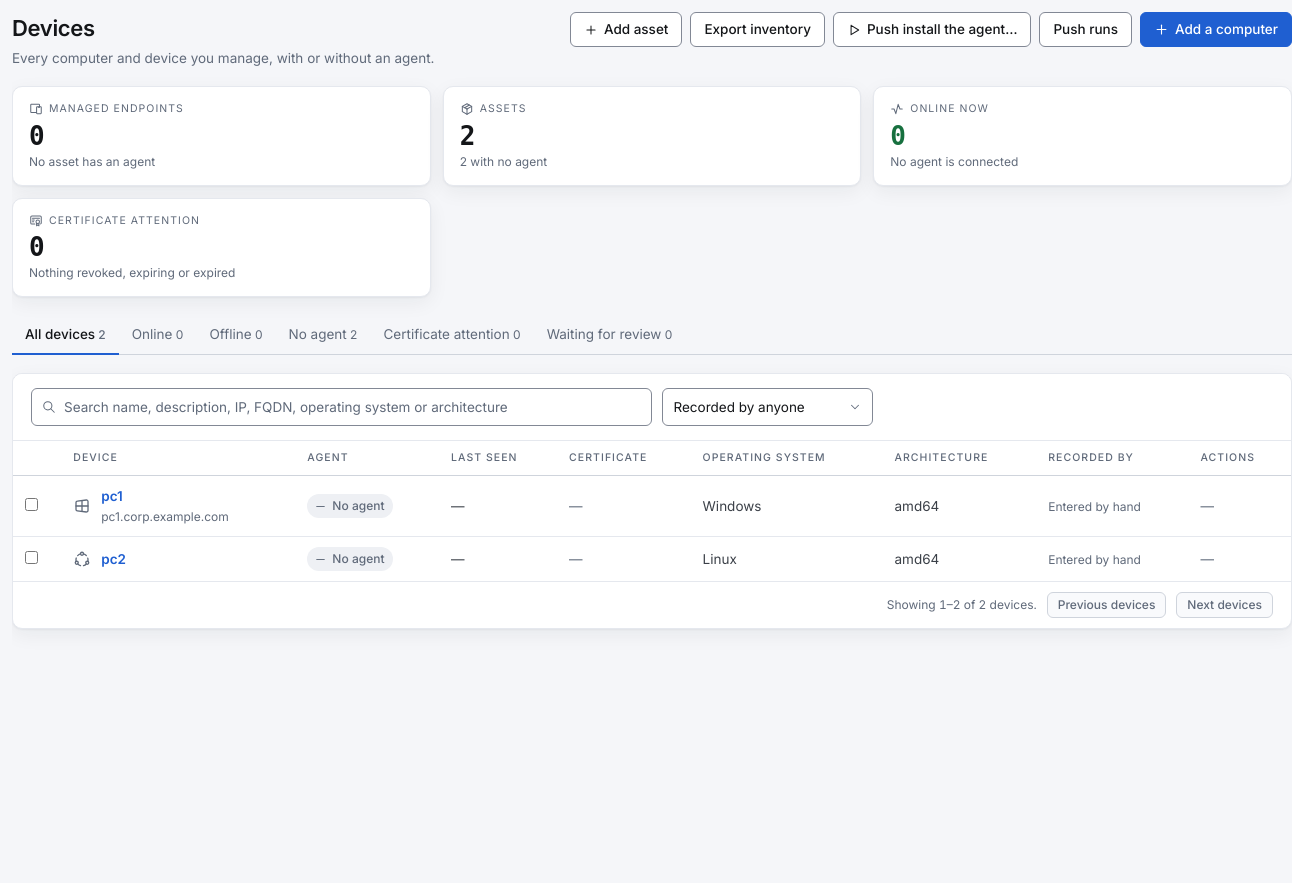
the push install flow › keeps Windows and Linux/macOS machines in separate pushes
Expected: the link "pc1" is shown, [101,488,123,504]
Click the checkbox named "Select pc1 for push install": click(32, 505) [25,498,38,511]
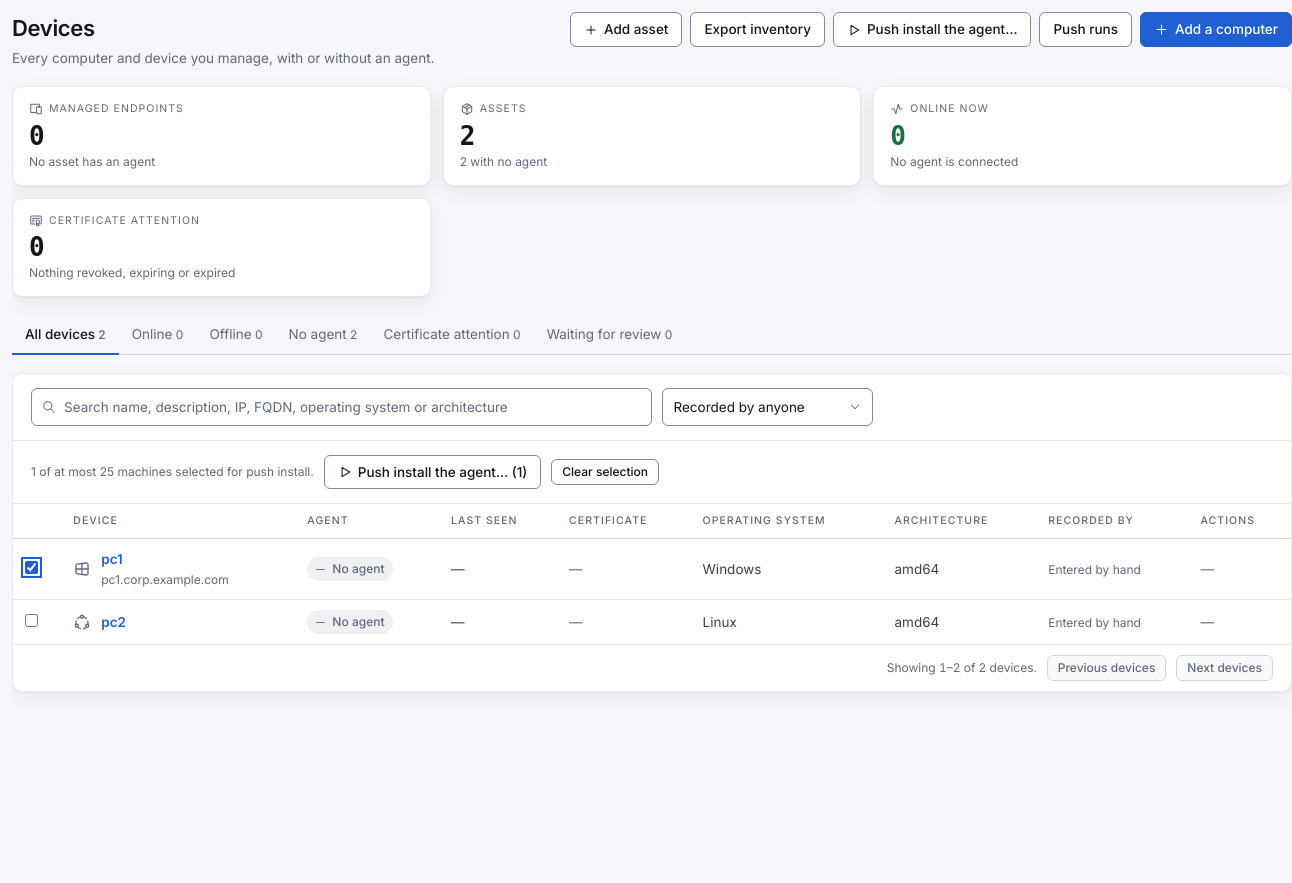
Click the checkbox named "Select pc2 for push install": click(32, 621) [25,614,38,627]
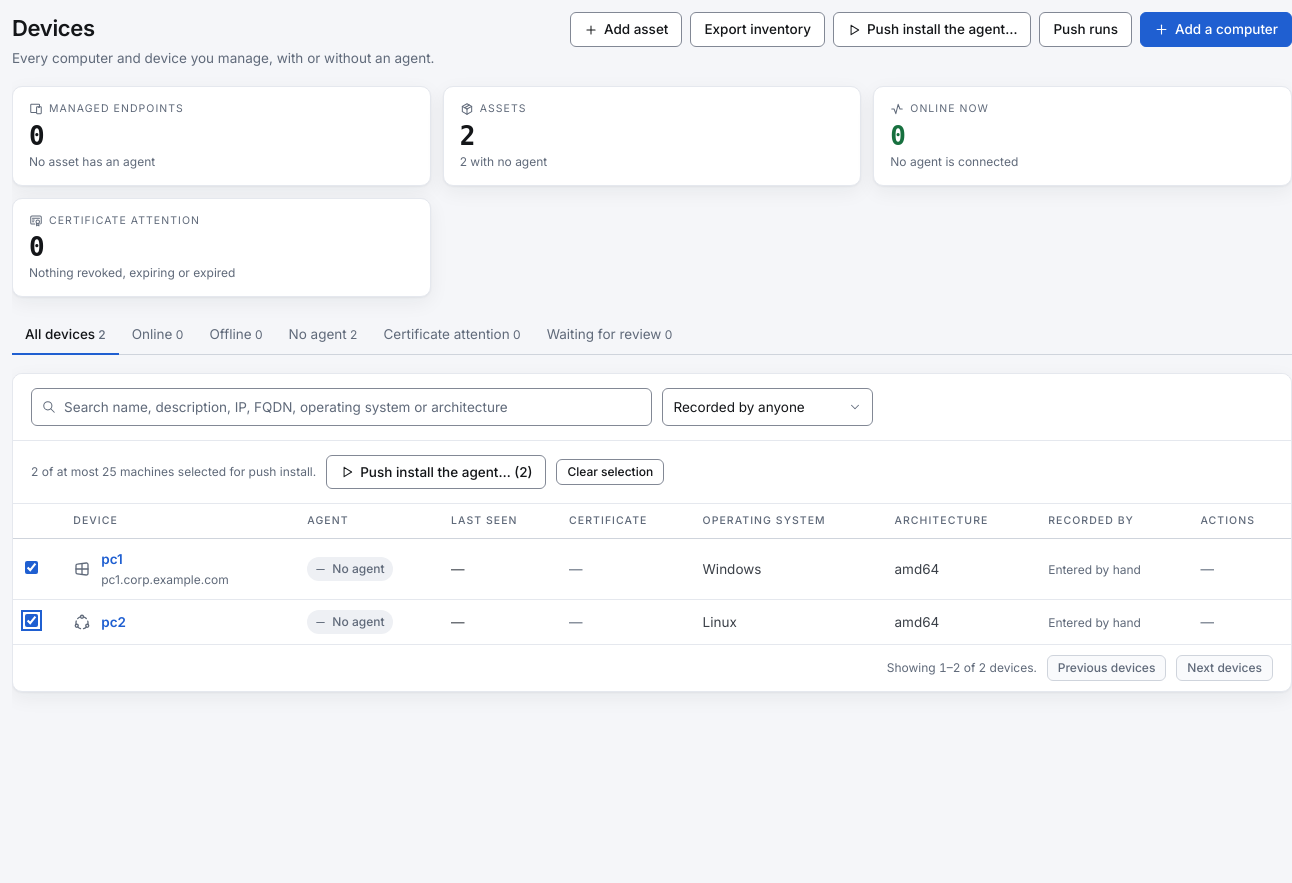
Click the button "Push install the agent… (2)": click(436, 472) [326,455,546,489]
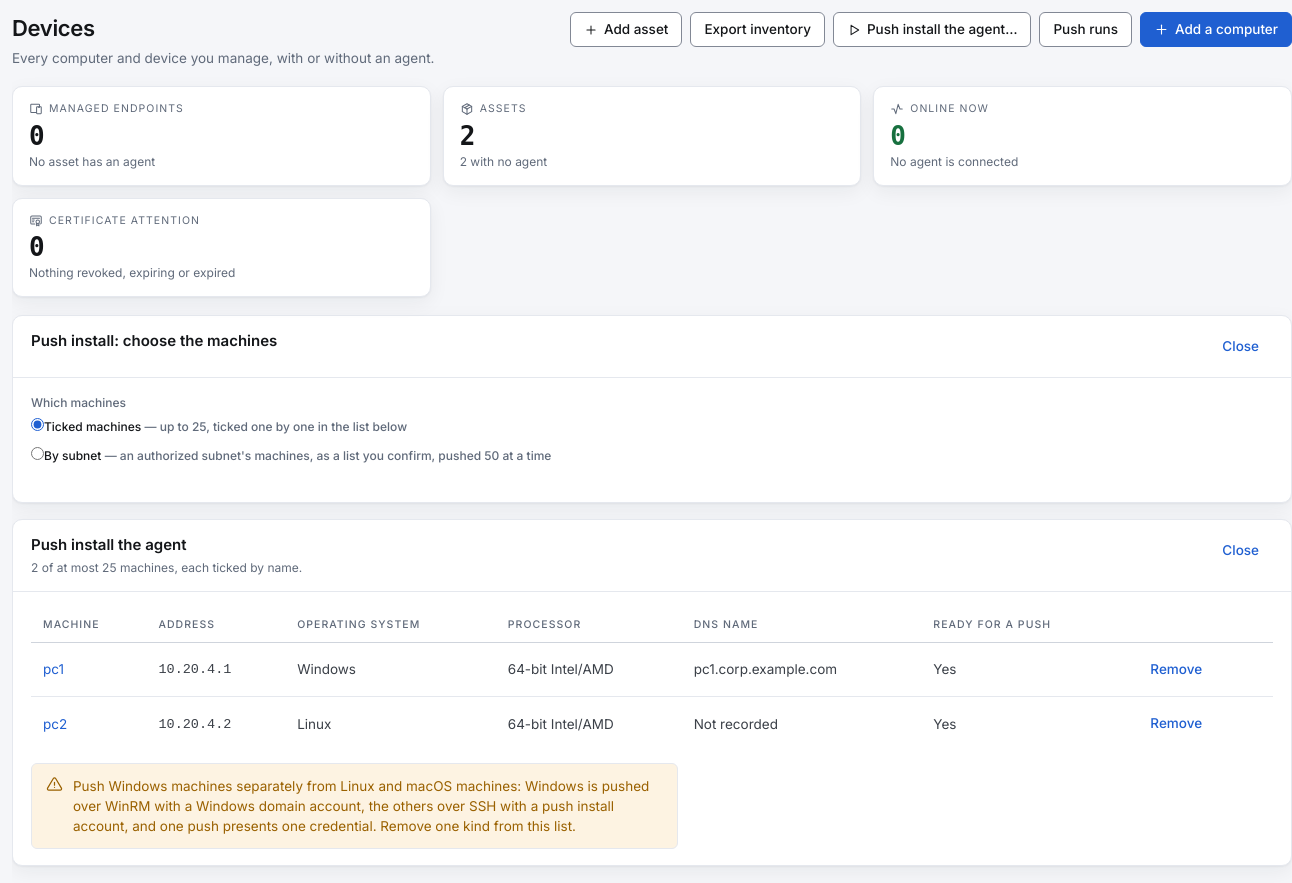
Now the text "Push Windows machines separately" is shown, box [73,778,649,834]
